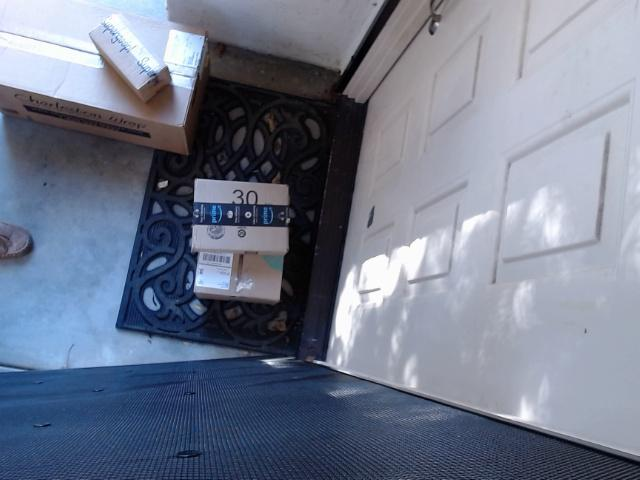box: (3, 0, 227, 154), (164, 139, 301, 319), (178, 157, 284, 268), (81, 5, 185, 104)
